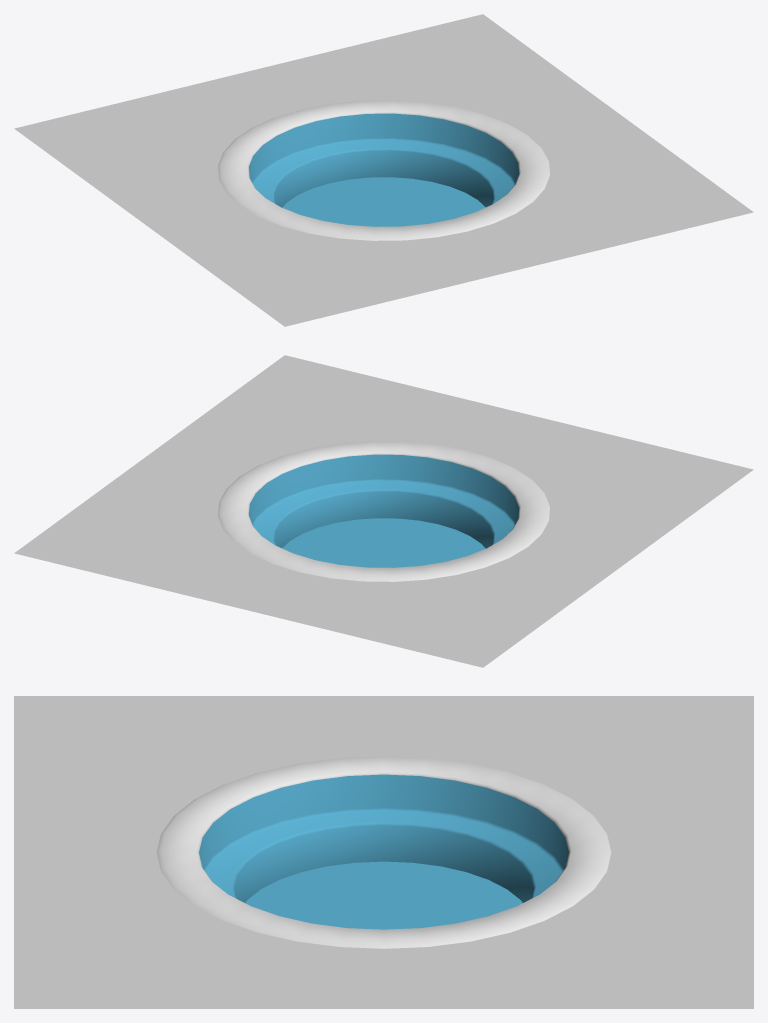
The model's file is Pool_jacuzzi.fbx.
3 renders of one model, top to bottom at view 1: azimuth 30°, elevation 25°; view 2: azimuth 150°, elevation 25°; view 3: azimuth 270°, elevation 25°, orthographic. The views are drawn at different scales.
Parts seen in each view (by area): view 1: JacuzziRim, jacuzzi; view 2: JacuzziRim, jacuzzi; view 3: JacuzziRim, jacuzzi.
Boxes of the visible parts, left/top/right/bottom form: JacuzziRim: left=14, top=14, right=753, bottom=326; jacuzzi: left=218, top=100, right=549, bottom=240; JacuzziRim: left=14, top=355, right=753, bottom=667; jacuzzi: left=218, top=441, right=549, bottom=581; JacuzziRim: left=14, top=696, right=753, bottom=1008; jacuzzi: left=156, top=756, right=611, bottom=948.
Size of the model in its own units: 8 by 0.881 by 8.
